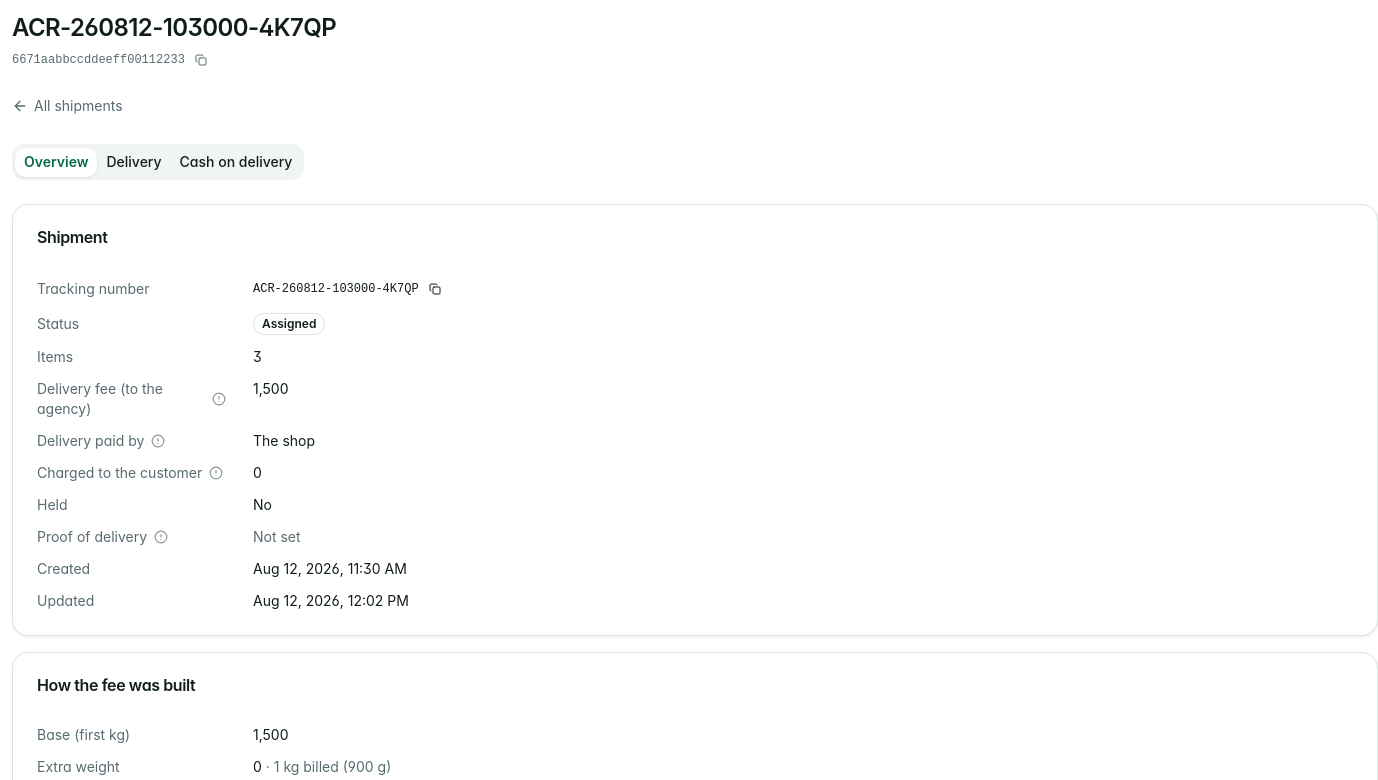
Test: the cash block › renders for a caller holding no cod permission at all
This screenshot has width=1378, height=780.
Click the tab "Cash on delivery" at {"x": 236, "y": 162}, box [171, 148, 302, 176]
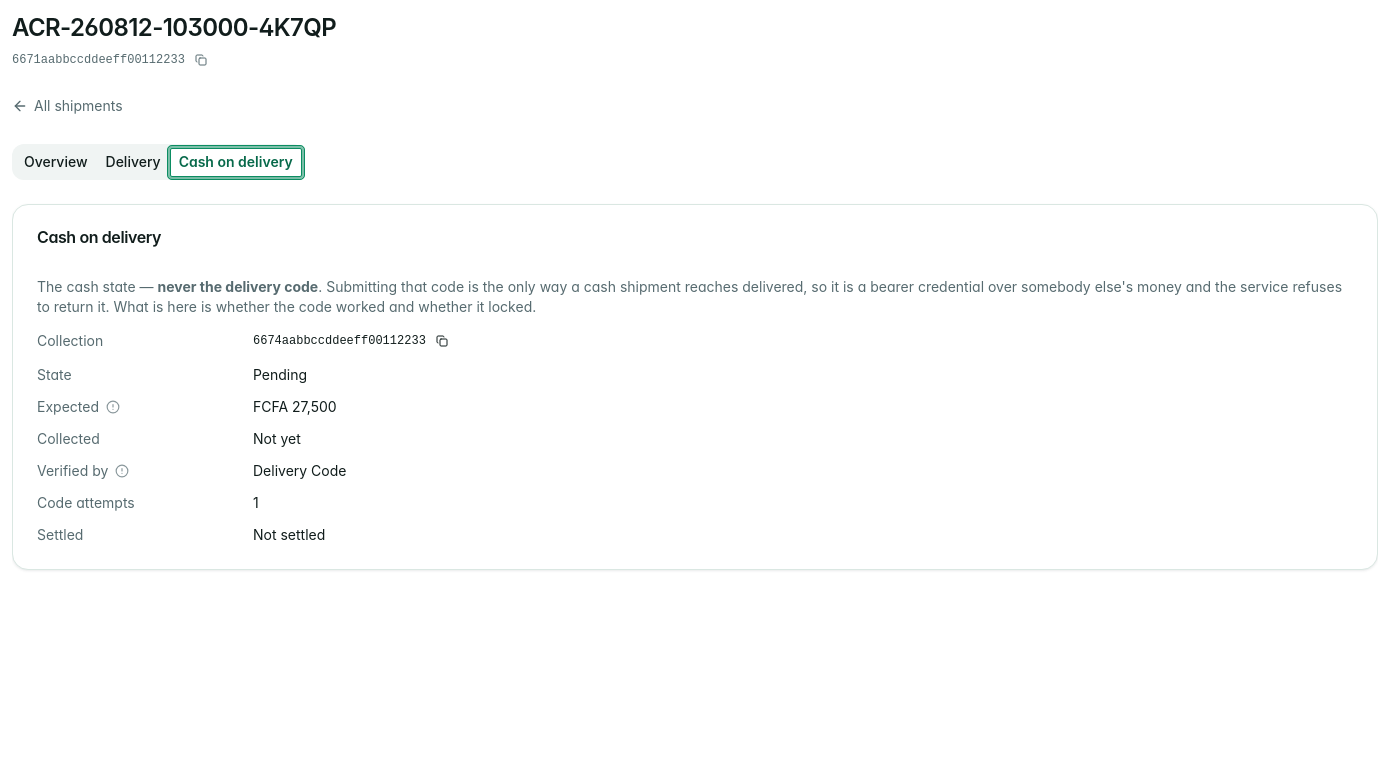
Expected: the text "6674aabbccddeeff00112233" is shown, [253, 333, 426, 349]
